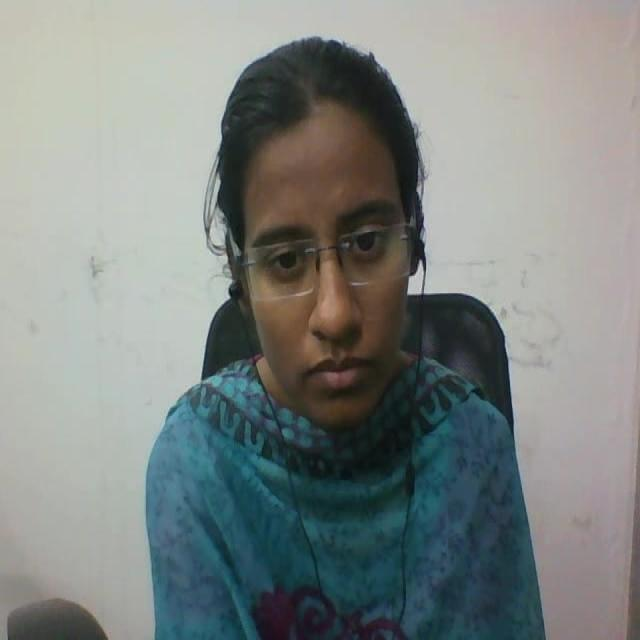Engaged: (194, 19, 454, 426)
